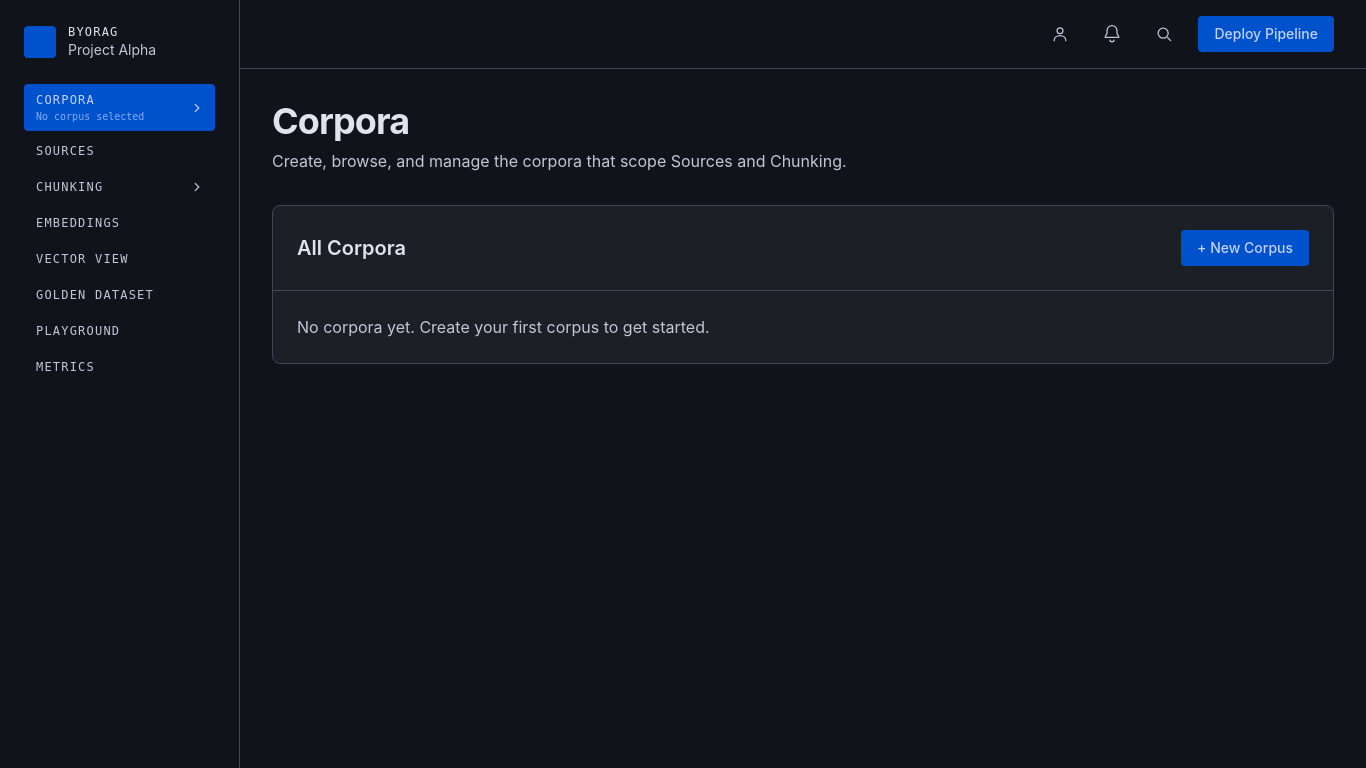
Test: CorporaScreen (009-corpora-screen US1) › creates a new corpus and marks it active
This screenshot has width=1366, height=768.
Expected: the text "No corpora yet. Create your first corpus to get started." is shown, [297,317,710,337]
Step 1. Click the button "+ New Corpus" → point(1245, 248), box [1181,230,1309,266]
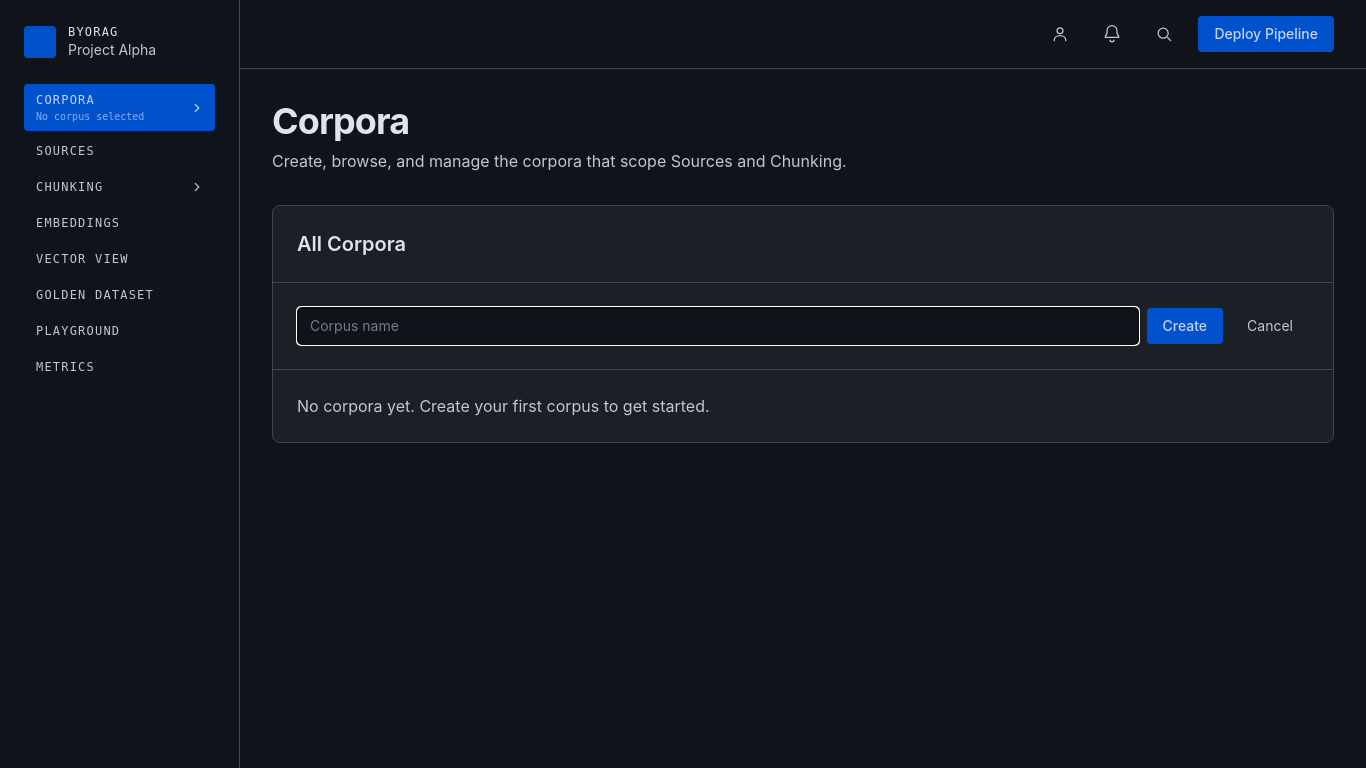
Step 2. Type "Research Notes" into the field named "new corpus name" → point(718, 326), box [297,307,1138,345]
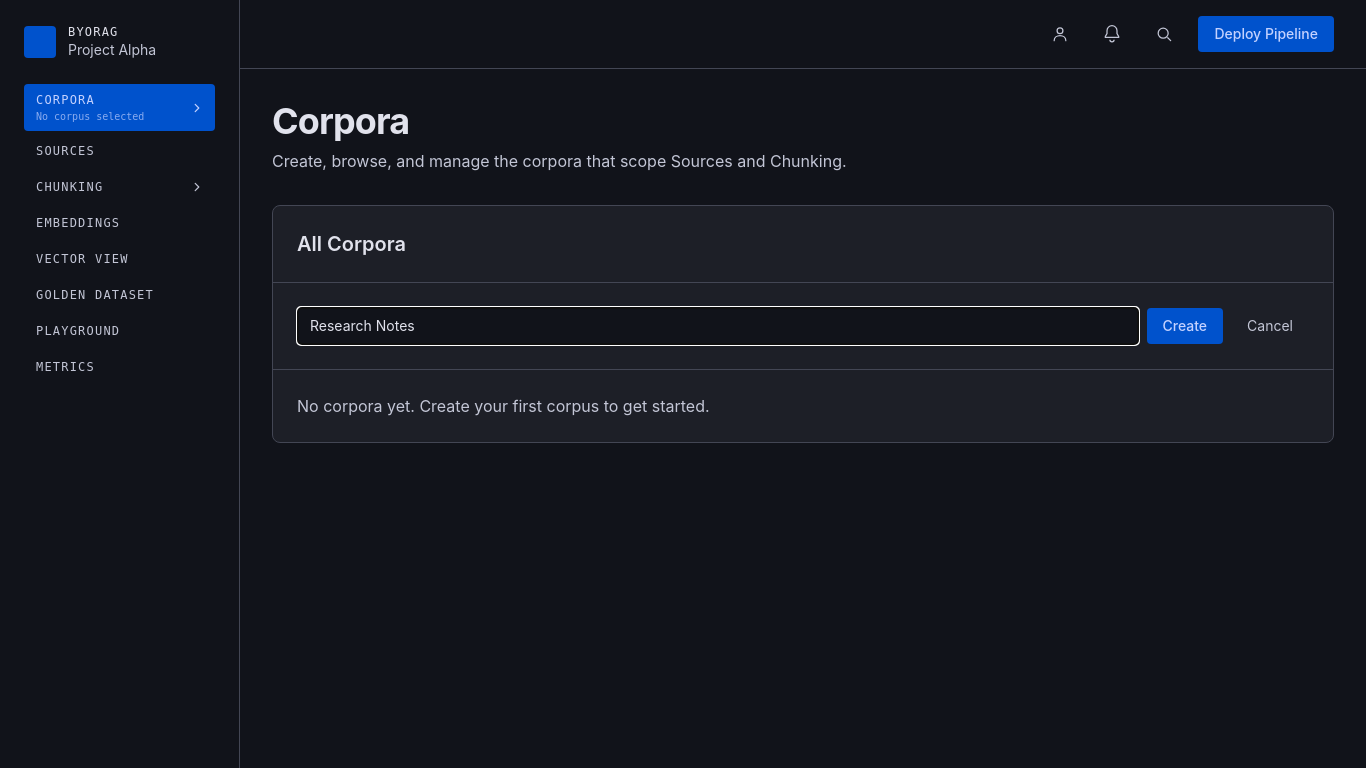
Step 3. Click the button "Create" → point(1185, 326), box [1146,308,1223,344]
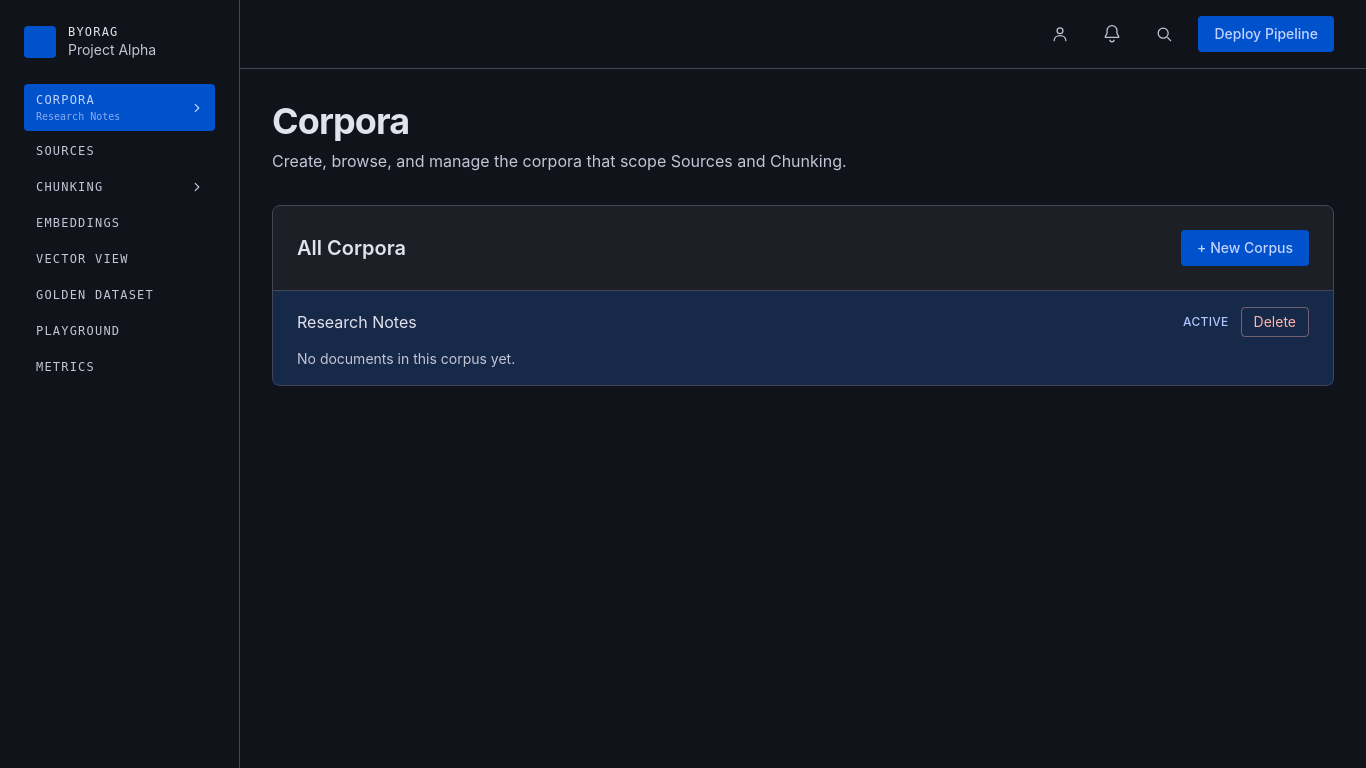
Now the text "Research Notes" in the row of "ACTIVE" is shown, box [297,312,417,332]
